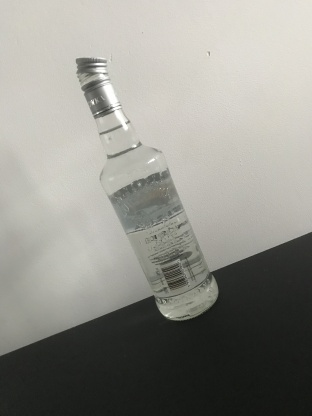nakretka: (74, 53, 122, 120)
